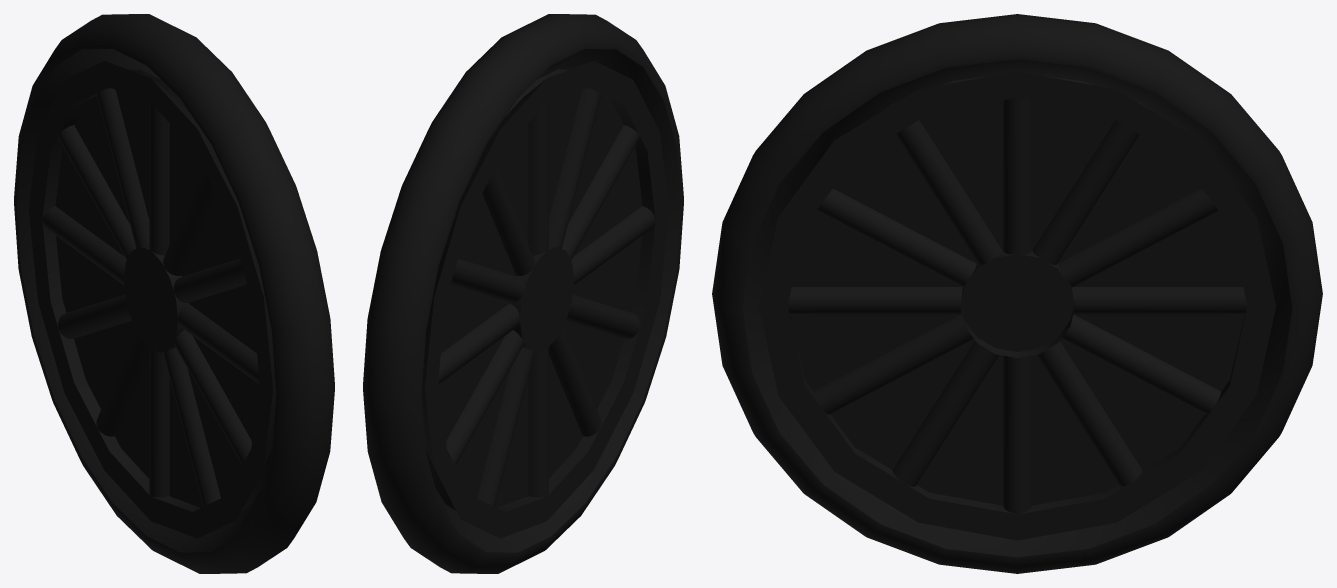
File: LlantaT.obj
3 renders of one model, left to right at view 1: azimuth 30°, elevation 25°; view 2: azimuth 150°, elevation 25°; view 3: azimuth 270°, elevation 25°, orthographic. The views are drawn at different scales.
Visible parts, largest first — view 1: LlantaT; view 2: LlantaT; view 3: LlantaT.
Boxes of the visible parts, bbox=[...] form: LlantaT: bbox=[14, 14, 334, 573]; LlantaT: bbox=[363, 14, 683, 573]; LlantaT: bbox=[712, 14, 1322, 573].
Bounding box in the file's own units: 0.1662 × 1.49 × 1.49.
